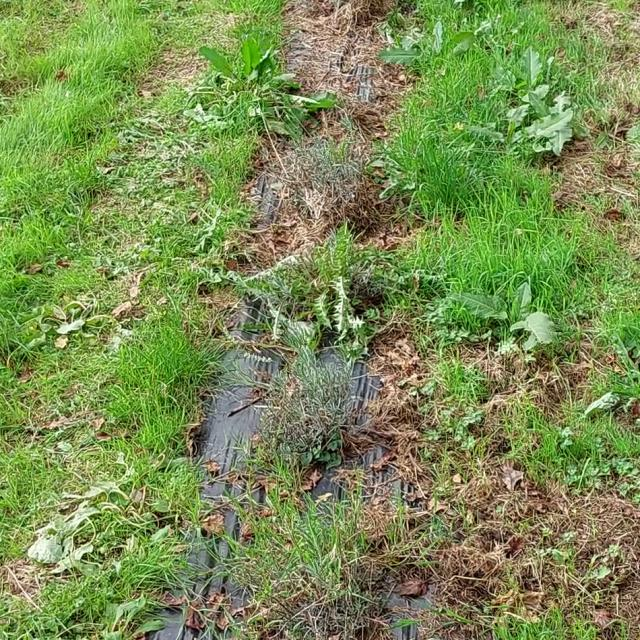organic waste: (188, 20, 293, 136), (450, 284, 564, 375), (378, 10, 495, 86), (29, 275, 120, 364), (27, 494, 125, 570), (523, 80, 599, 153), (476, 95, 547, 152), (486, 50, 564, 96)
